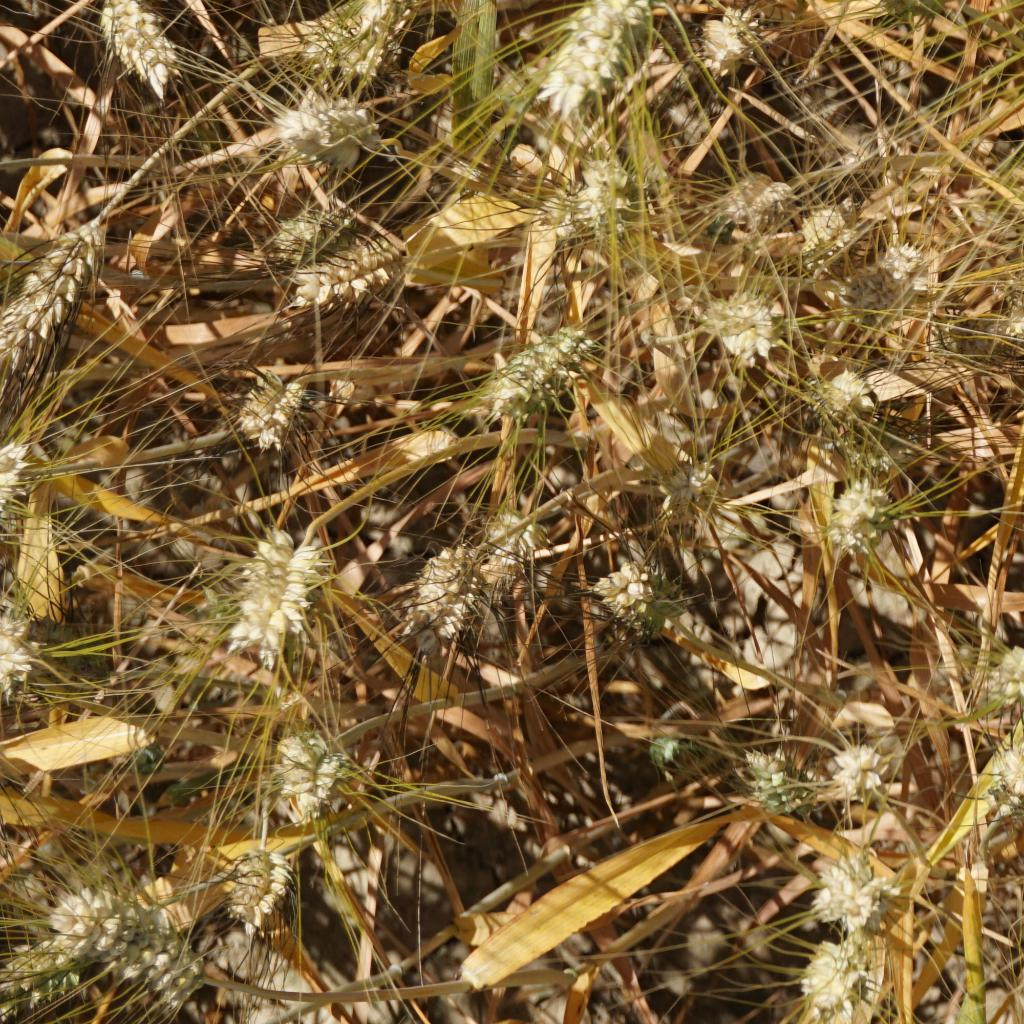0-0: (206, 521, 325, 659), (0, 226, 100, 360), (47, 868, 195, 954), (472, 311, 594, 407), (256, 705, 350, 813), (547, 0, 647, 100), (777, 937, 900, 1016), (691, 271, 799, 358), (813, 848, 913, 939), (275, 234, 403, 303), (116, 935, 226, 1012), (577, 547, 679, 626), (399, 529, 476, 633), (236, 183, 348, 253), (547, 139, 624, 240), (736, 724, 811, 826), (232, 356, 316, 446), (220, 837, 301, 927), (0, 929, 84, 1015), (263, 90, 376, 147), (793, 346, 874, 423), (705, 151, 783, 228), (0, 595, 54, 706), (872, 218, 947, 297), (92, 0, 171, 72), (819, 728, 893, 803), (978, 267, 1024, 386), (695, 4, 763, 82), (472, 505, 531, 594), (787, 193, 856, 267), (643, 461, 720, 522), (972, 724, 1024, 811), (323, 0, 431, 41), (833, 470, 889, 547), (972, 632, 1024, 705), (0, 435, 54, 501), (858, 0, 949, 21)
